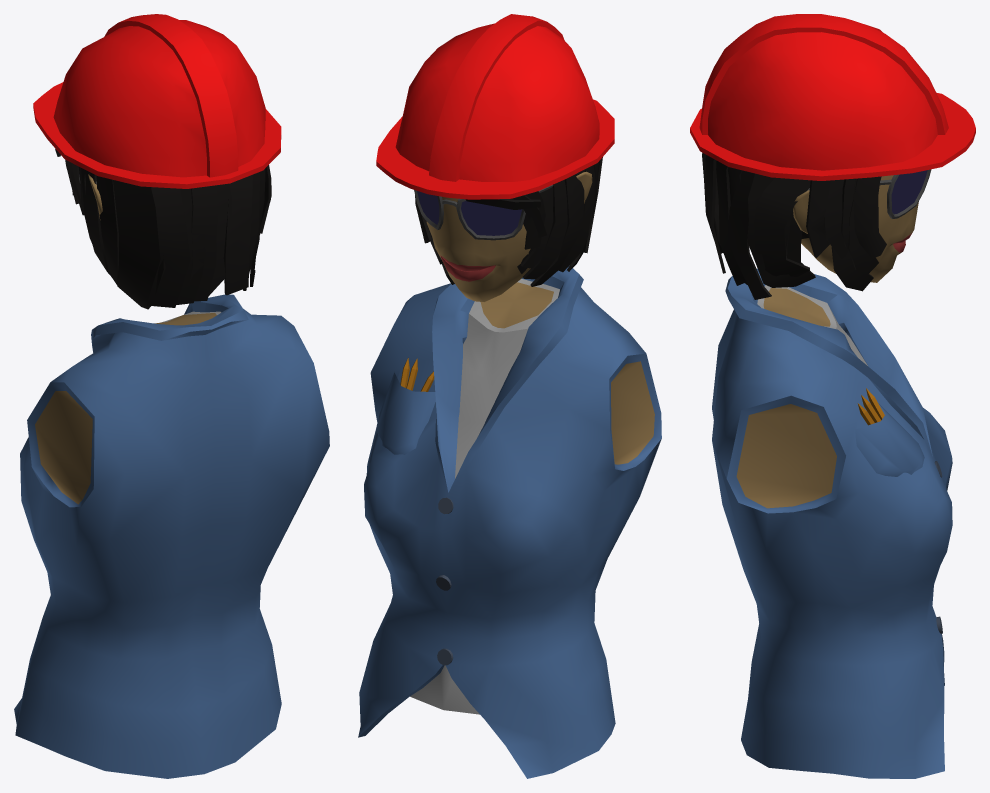
File: Avatar_Engineer.FBX
3 views of the same model, side by side, from view 1: azimuth 30°, elevation 25°; view 2: azimuth 150°, elevation 25°; view 3: azimuth 270°, elevation 25° (orthographic). The views are drawn at different scales.
Parts seen in each view (by area): view 1: Avatar_Engineer_Body, Avatar_Engineer_Head; view 2: Avatar_Engineer_Body, Avatar_Engineer_Head; view 3: Avatar_Engineer_Body, Avatar_Engineer_Head.
Part boxes in pixels (box(x1,y1,x2,y2)): Avatar_Engineer_Body: box(14, 294, 329, 778); Avatar_Engineer_Head: box(33, 14, 281, 309); Avatar_Engineer_Body: box(358, 265, 661, 778); Avatar_Engineer_Head: box(376, 14, 614, 301); Avatar_Engineer_Body: box(712, 268, 952, 778); Avatar_Engineer_Head: box(690, 14, 975, 299).
Bounding box in the file's own units: 0.9091 × 2.53 × 0.9055.
